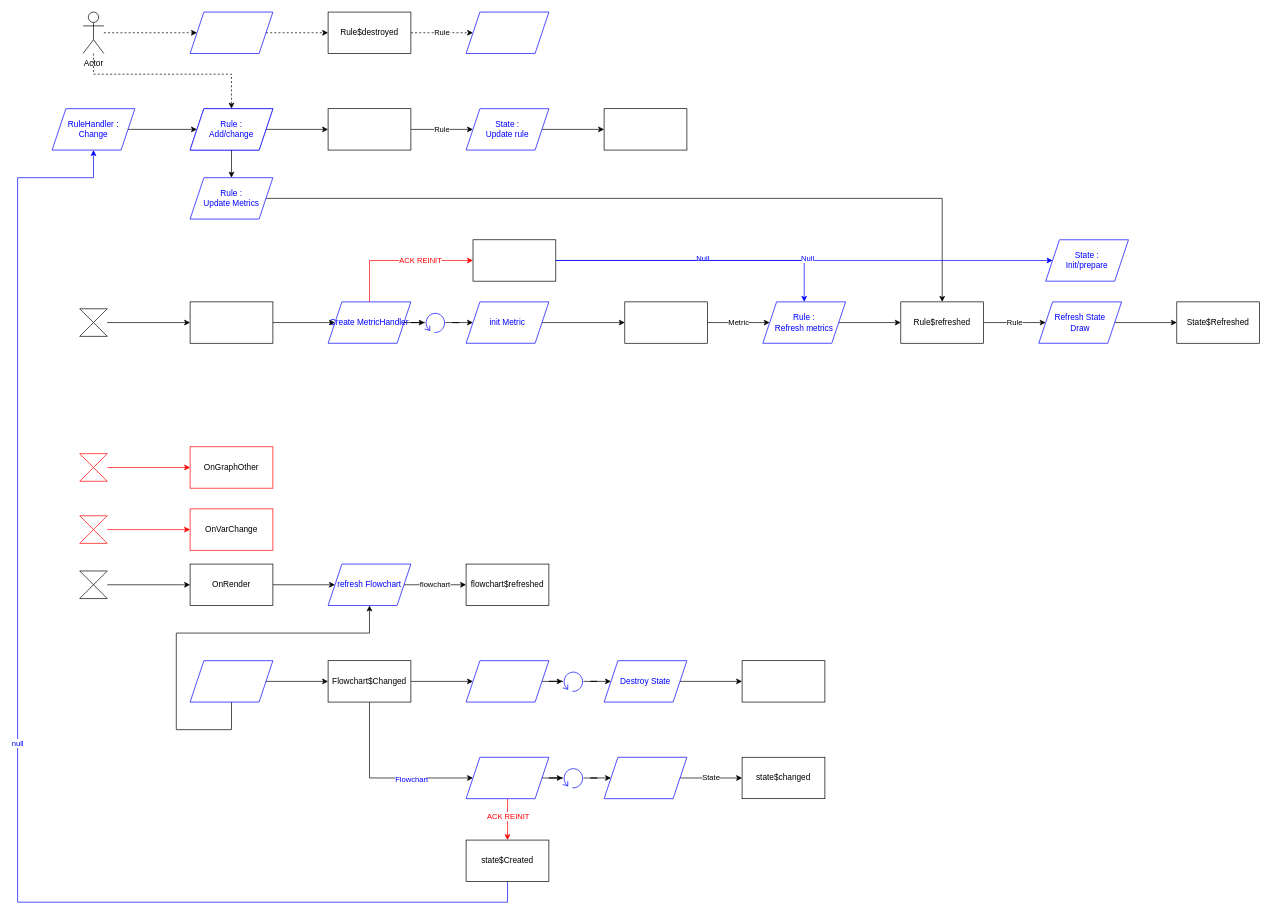
Some shapes in this 1272 by 920 pixel diagram are drawn without their labels. The centre of each missing label's shape, as x and y in pixels:
Add/change flowchart/graph: [231,681]
Create State: [645,778]
Create StateHandler: [507,778]
Destroy StateHandler: [507,681]
Metric$changed: [666,322]
Metric$Init: [514,260]
OnDataReceived: [231,322]
Rule : Remove: [231,32]
Rule$changed: [369,129]
State : Remove rule: [507,32]
State$Changed No draw update Rule List: [645,129]
state$destroyed: [783,681]
